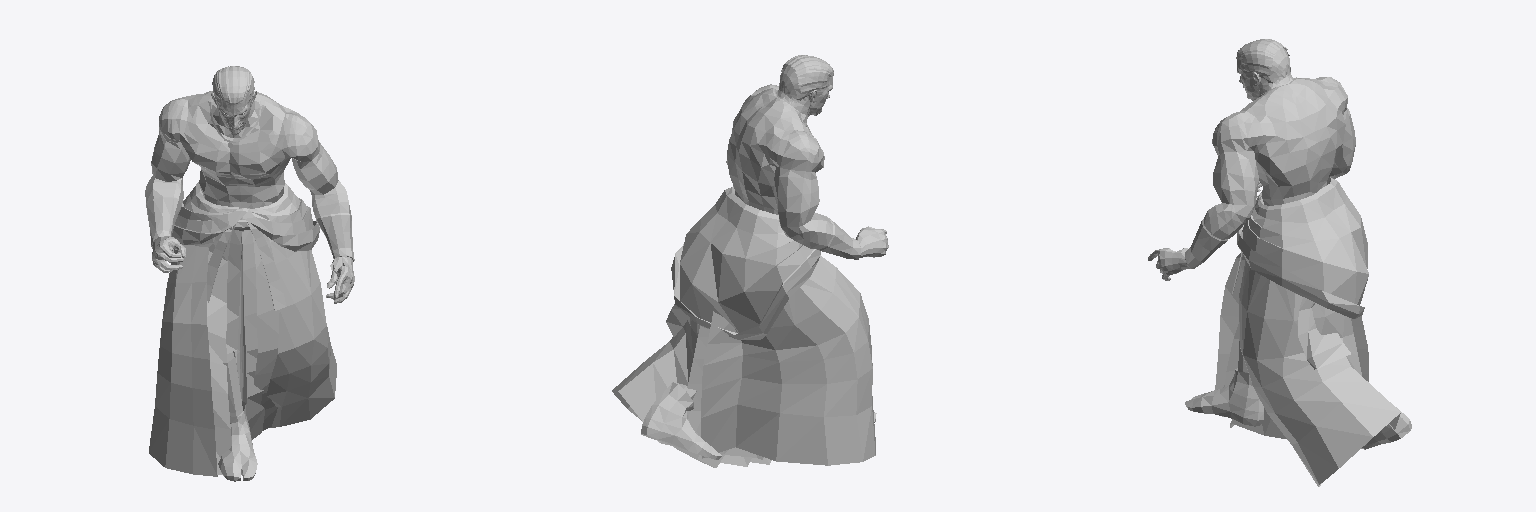
The model's file is geese_walk_000033.obj.
3 renders of one model, left to right at view 1: azimuth 30°, elevation 25°; view 2: azimuth 150°, elevation 25°; view 3: azimuth 270°, elevation 25°, orthographic.
Visible parts, largest first — view 1: GamemodelShape1.003, hairShape.001; view 2: GamemodelShape1.003, hairShape.001; view 3: GamemodelShape1.003, hairShape.001.
Boxes of the visible parts, x1=… form: GamemodelShape1.003: x1=145, y1=91, x2=354, y2=481; hairShape.001: x1=212, y1=66, x2=254, y2=105; GamemodelShape1.003: x1=612, y1=77, x2=888, y2=467; hairShape.001: x1=778, y1=55, x2=833, y2=103; GamemodelShape1.003: x1=1148, y1=59, x2=1411, y2=486; hairShape.001: x1=1236, y1=39, x2=1291, y2=84.
Bounding box in the file's own units: 2.77 × 4.77 × 2.86.